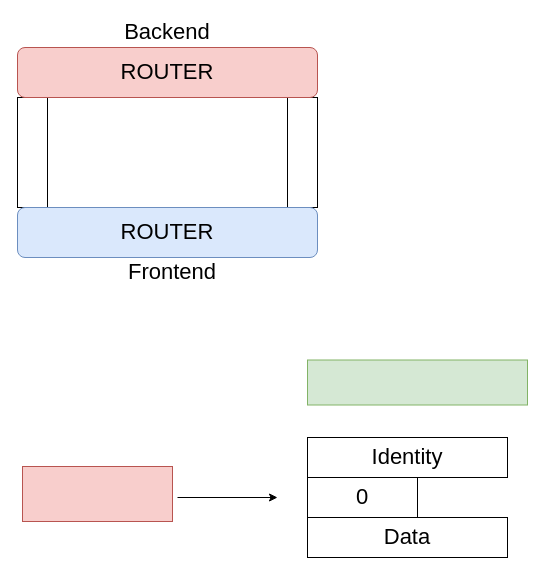
This 545x575 diagram has some shape labels left out. The box of each missing label's shape, as (x1, y1, x2, y2) in pixels:
BROKER: (16, 96, 318, 208)
Data Frame format: (306, 359, 528, 405)
Empty delimeter: (22, 466, 172, 522)
